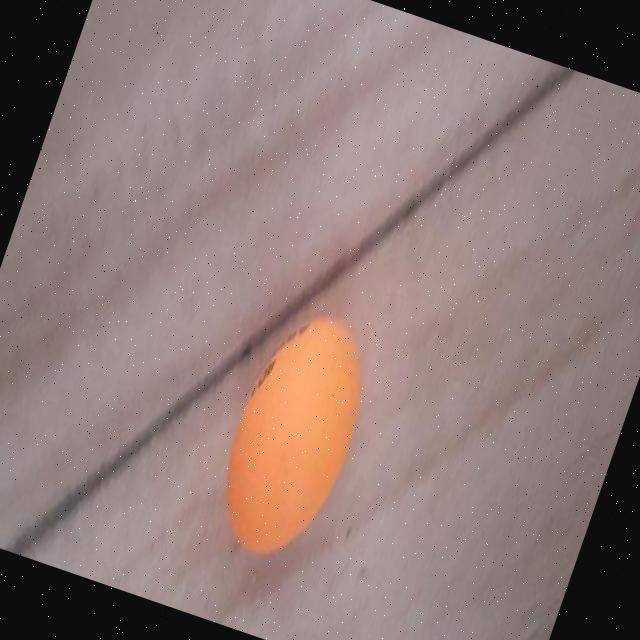ping-pong-ball: (198, 296, 387, 571)
